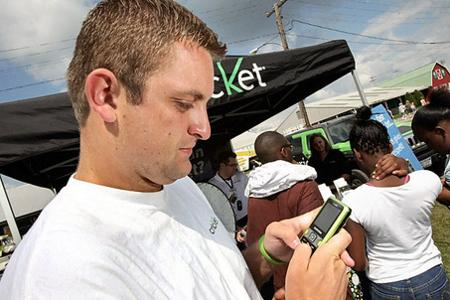person: (2, 2, 355, 299)
